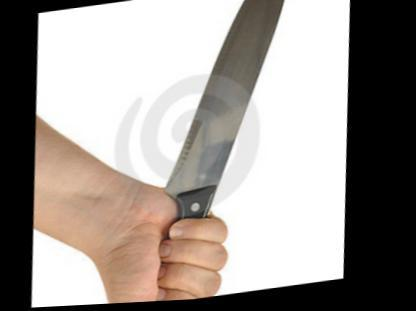knife: (101, 0, 330, 304)
